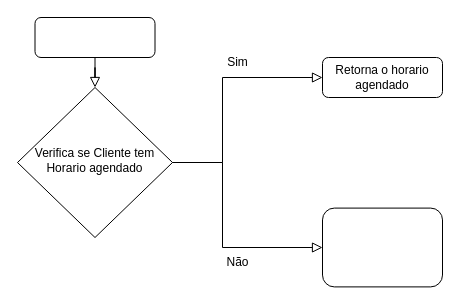
Image size: 460x305. Some labels were removed from this diagram. The shapes that lost their labels are listed below. From the top down, each one's box as (x1, y1, x2, y2) in pixels, then its label:
(34, 16, 155, 58): Ver Horario Agendado
(322, 207, 442, 287): Retorna mensagem de horario nao agendado e uma agenda de horarios disponiveis
